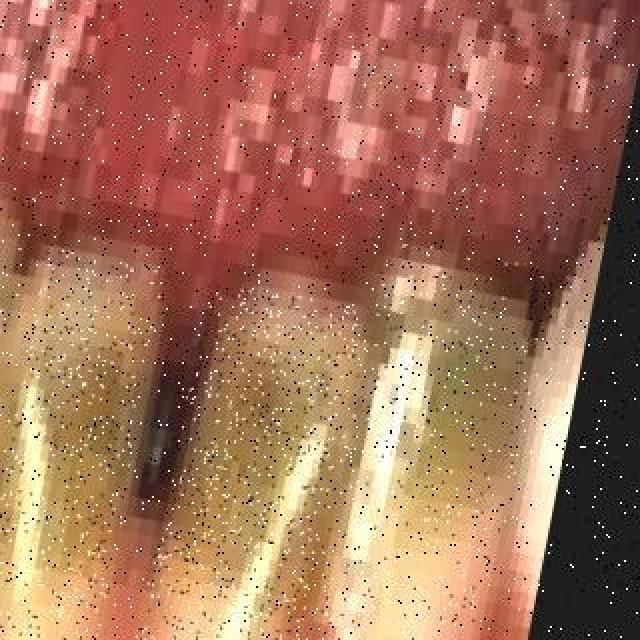cavities: (290, 236, 550, 640), (132, 278, 364, 640), (0, 244, 172, 640), (0, 150, 42, 640)
spacing: (103, 213, 237, 597)
